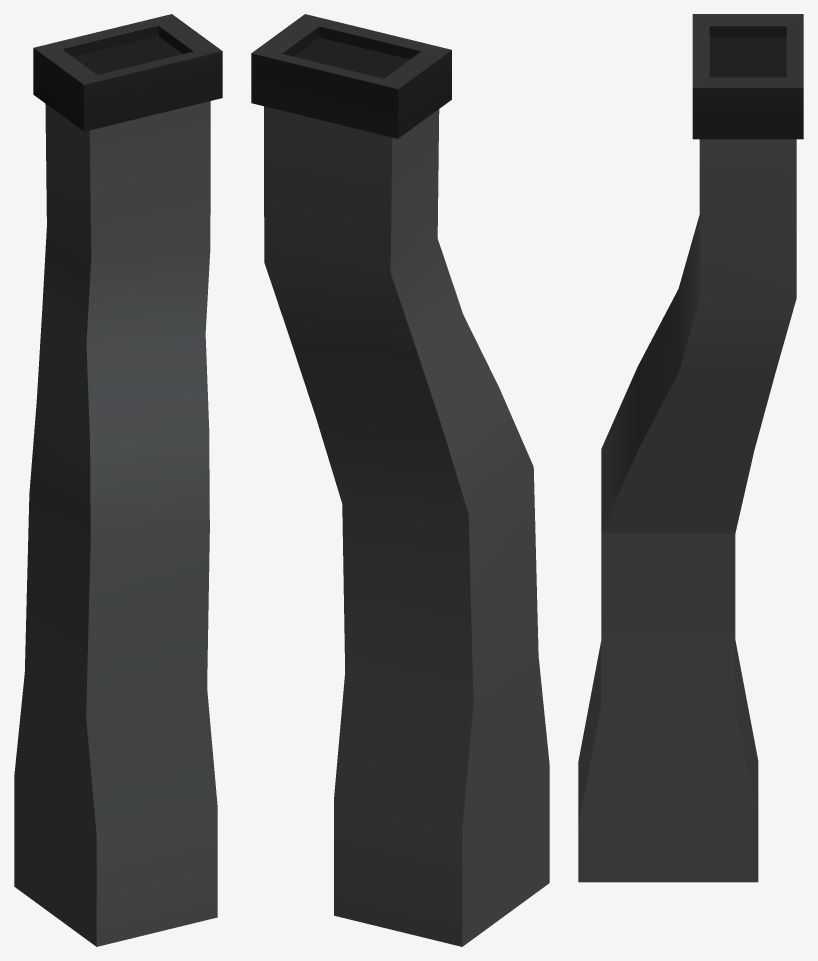
File: fanasty_mod_sml_chimney04.fbx
3 views of the same model, side by side, from view 1: azimuth 30°, elevation 25°; view 2: azimuth 150°, elevation 25°; view 3: azimuth 270°, elevation 25° (orthographic). The views are drawn at different scales.
Visible parts, largest first — view 1: chimney_04; view 2: chimney_04; view 3: chimney_04.
Part boxes in pixels (box(x1,y1,x2,y2)): chimney_04: box(14, 14, 222, 946); chimney_04: box(251, 14, 549, 946); chimney_04: box(578, 14, 803, 882).
Bounding box in the file's own units: 2.33 × 10.16 × 2.33.
